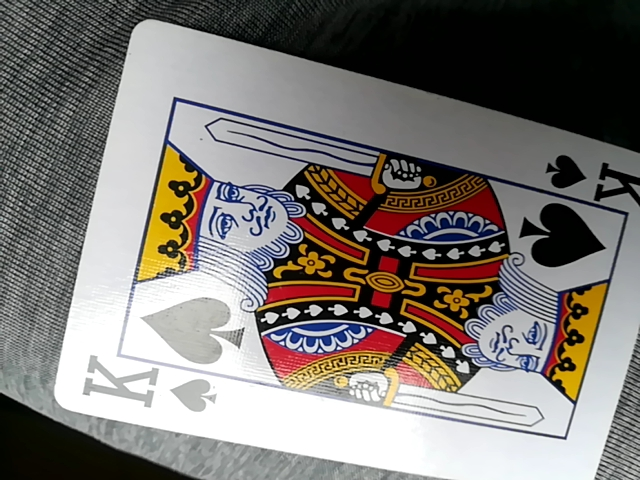ht k: (61, 20, 635, 478)
